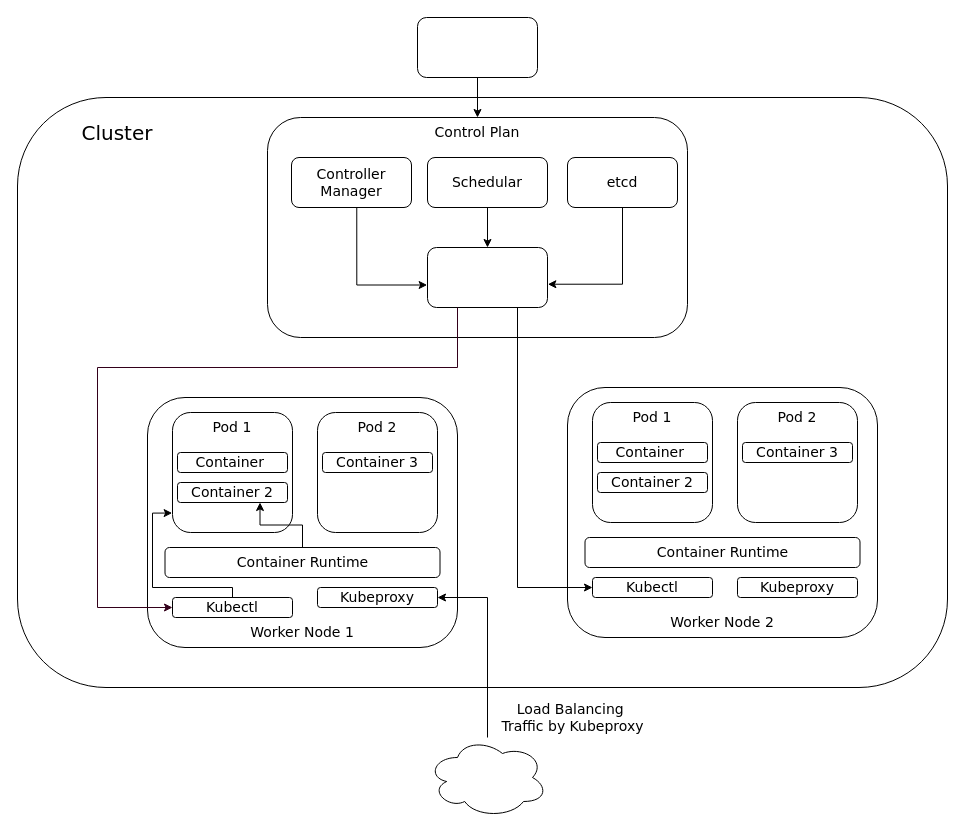
This 965x835 diagram has some shape labels left out. Here are the shapes that lost their labels. From the top down, the box of each, then its label:
(416, 16, 538, 78): Admin UI | CLI
(426, 246, 548, 308): API Server
(426, 736, 548, 818): Internet
